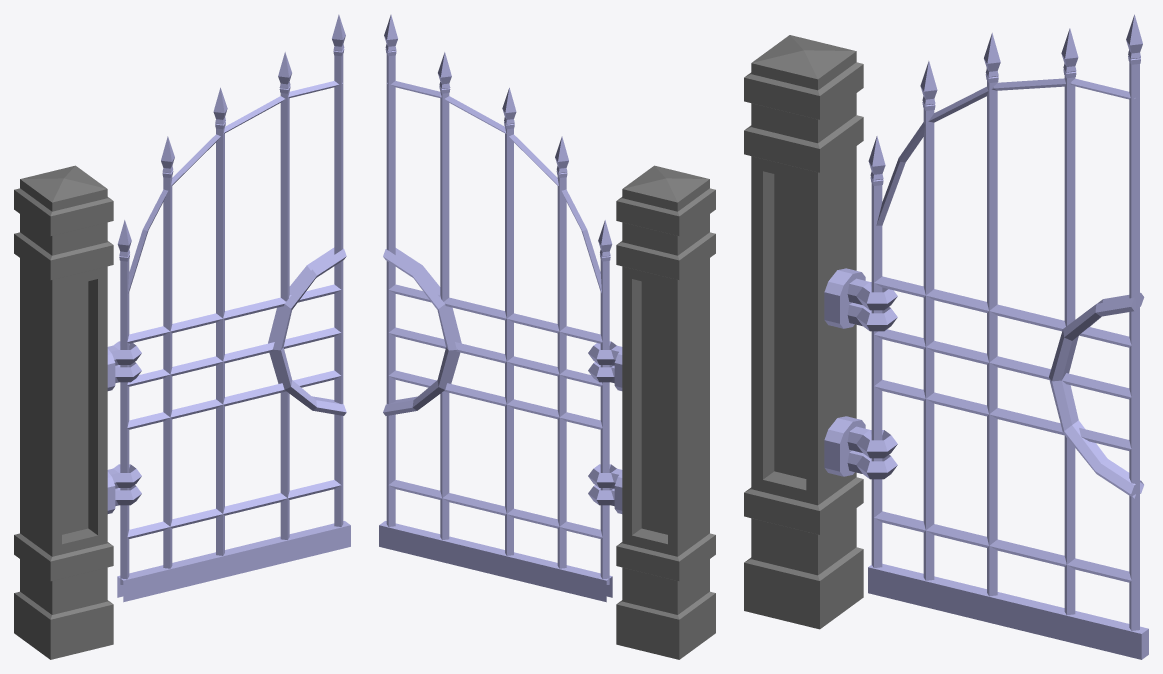
Rendered from SM_Fence_05.fbx.
3 renders of one model, left to right at view 1: azimuth 30°, elevation 25°; view 2: azimuth 150°, elevation 25°; view 3: azimuth 330°, elevation 25°, orthographic. The views are drawn at different scales.
Parts seen in each view (by area): view 1: Object017; view 2: Object017; view 3: Object017.
Part boxes in pixels (x1,y1,x2,y2): Object017: (14, 14, 350, 659); Object017: (379, 14, 715, 659); Object017: (744, 14, 1148, 659).
Size of the model in its own units: 150 by 253 by 30.
